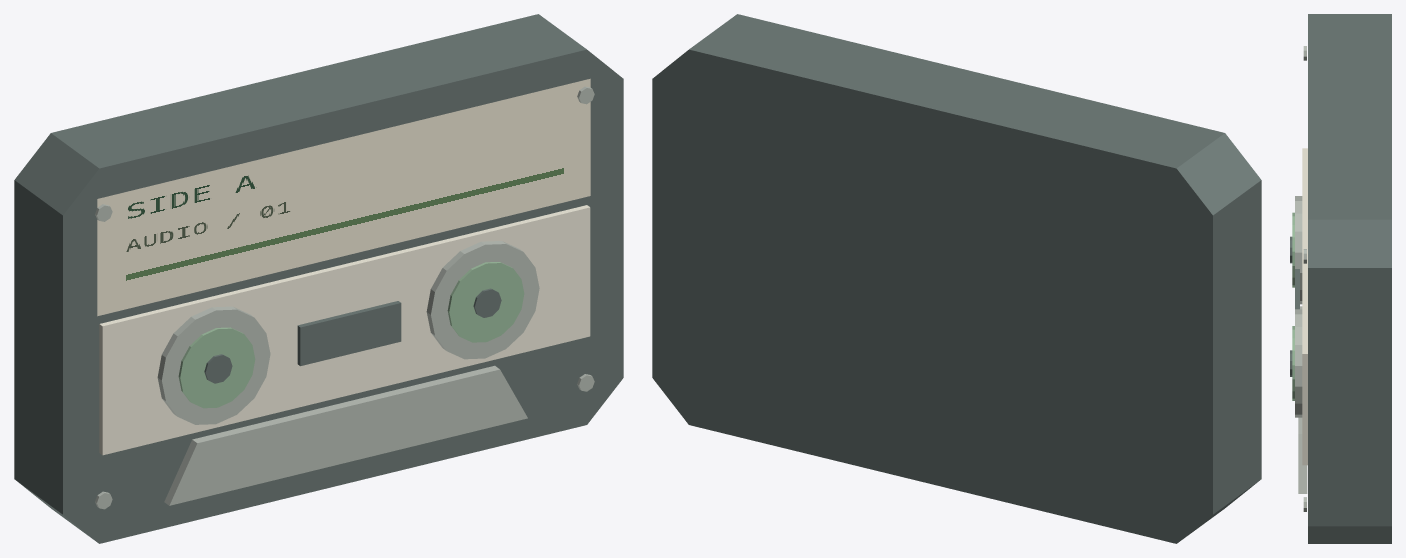
File: audio-cassette.glb
3 views of the same model, side by side, from view 1: azimuth 30°, elevation 25°; view 2: azimuth 150°, elevation 25°; view 3: azimuth 270°, elevation 25° (orthographic). The views are drawn at different scales.
Visible parts, largest first — view 1: audio-cassette; view 2: audio-cassette; view 3: audio-cassette.
Boxes of the visible parts, x1,y1,x2,y2 form: audio-cassette: (14,14,623,543); audio-cassette: (652,14,1261,543); audio-cassette: (1290,14,1391,543).
Bounding box in the file's own units: 1 × 0.64 × 0.182.
Materials: 5 (1 with a texture image).
